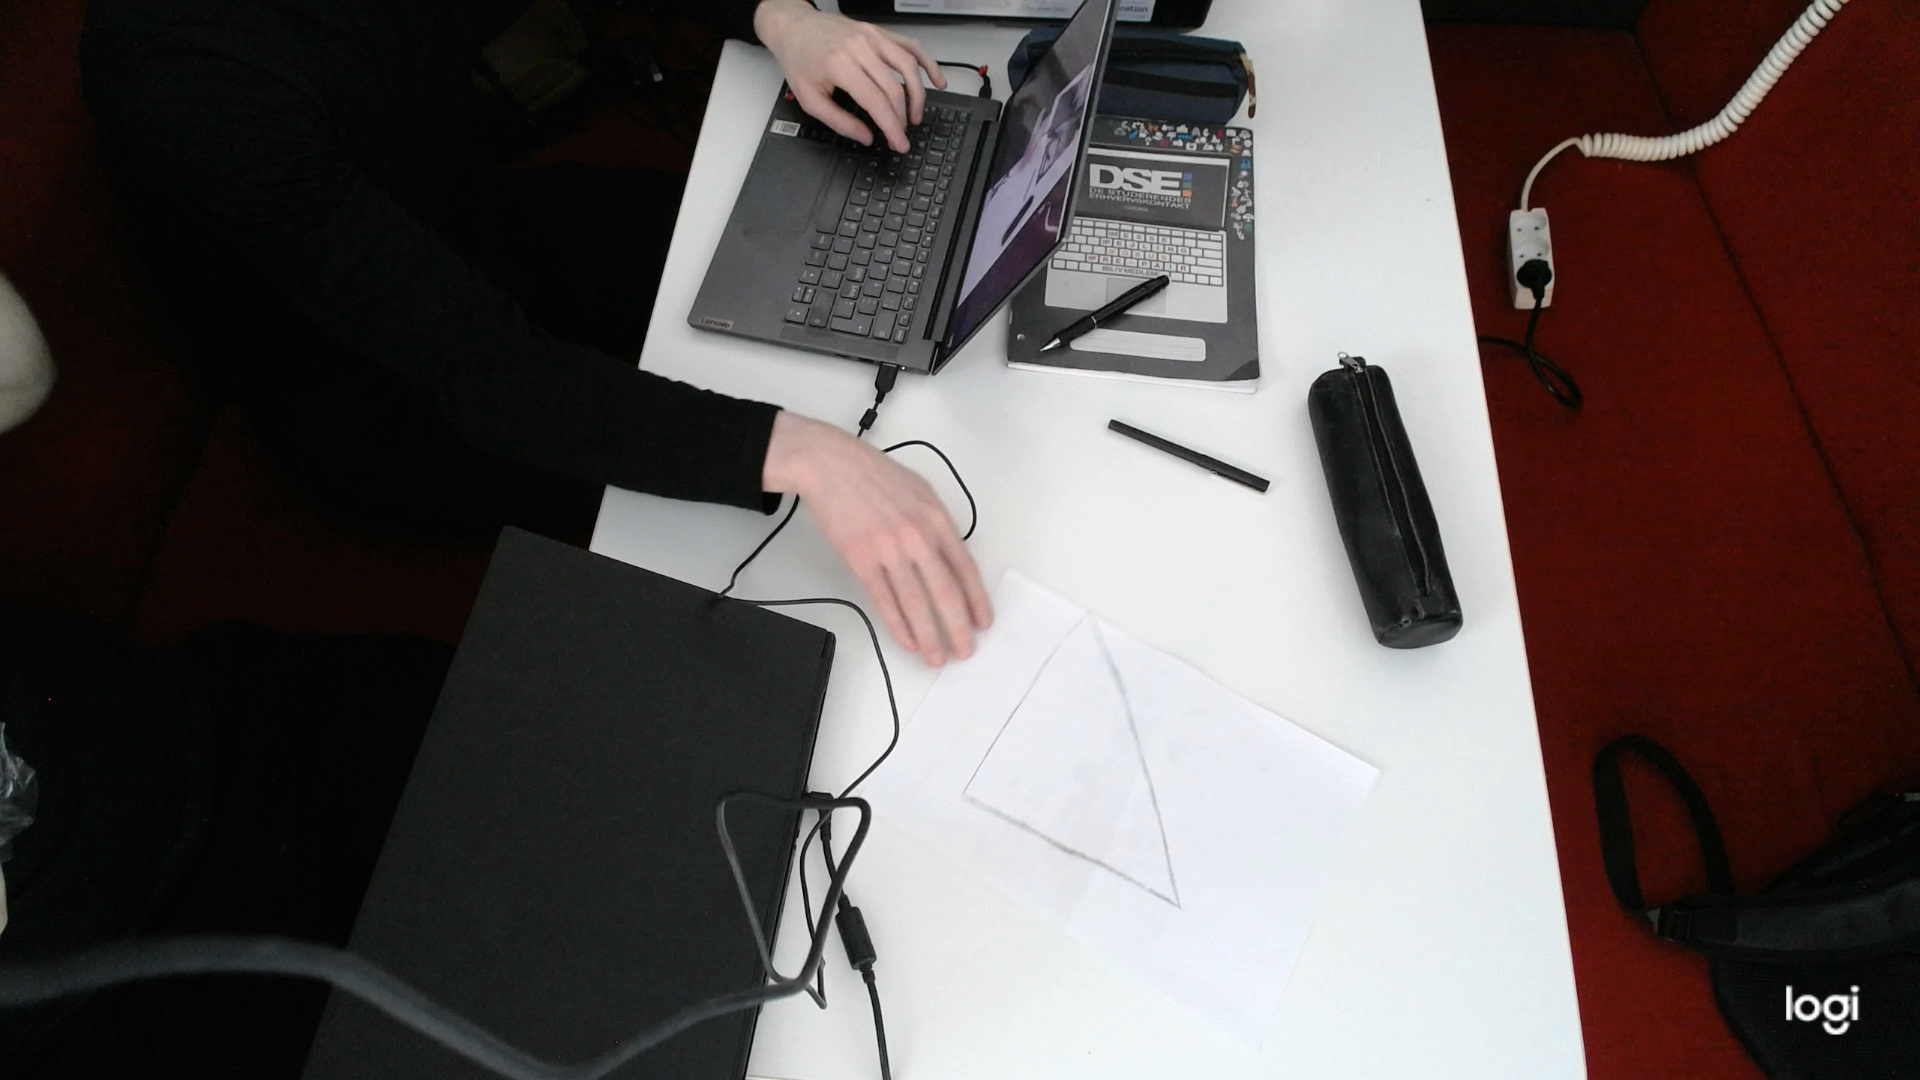Triangle: (960, 605, 1189, 914)
